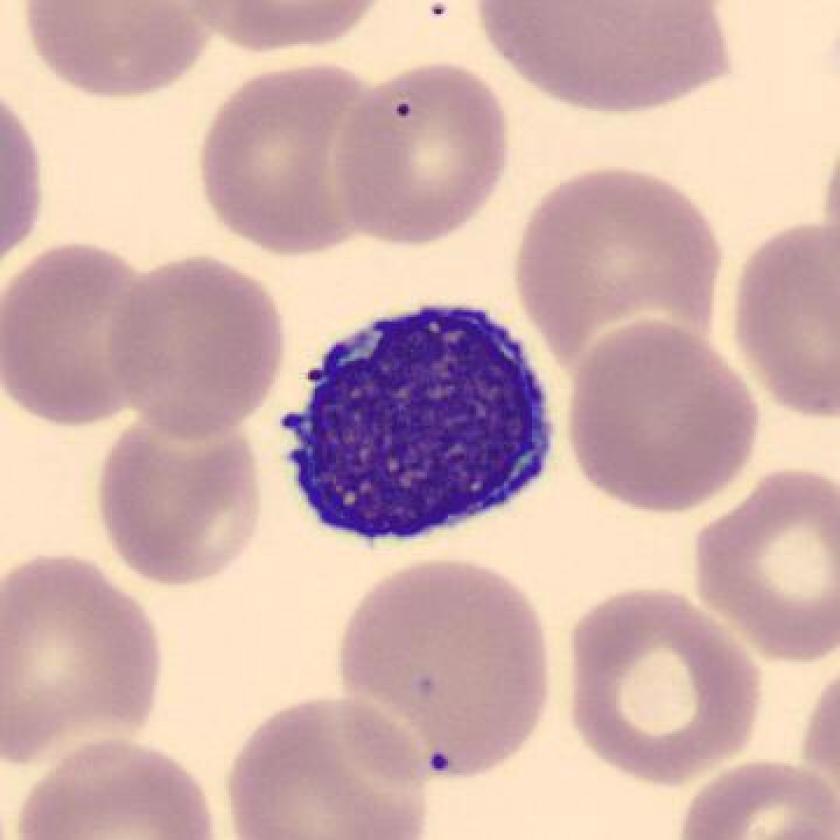lymphocyte: (272, 291, 570, 557)
